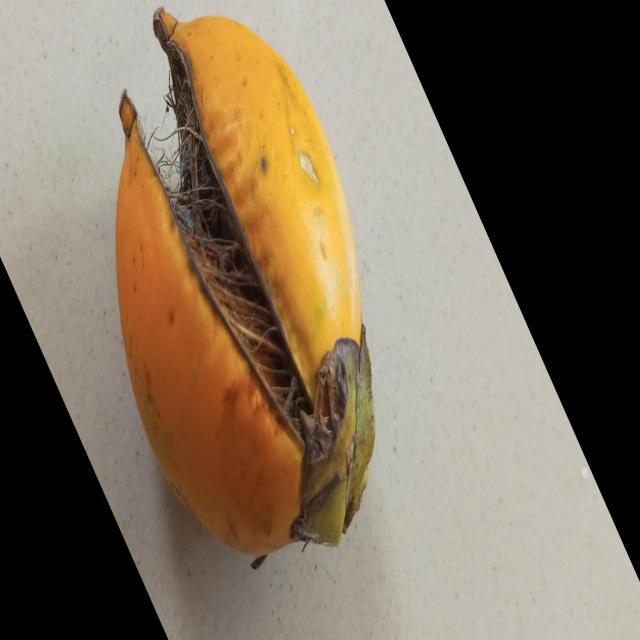damaged: (116, 9, 375, 567)
